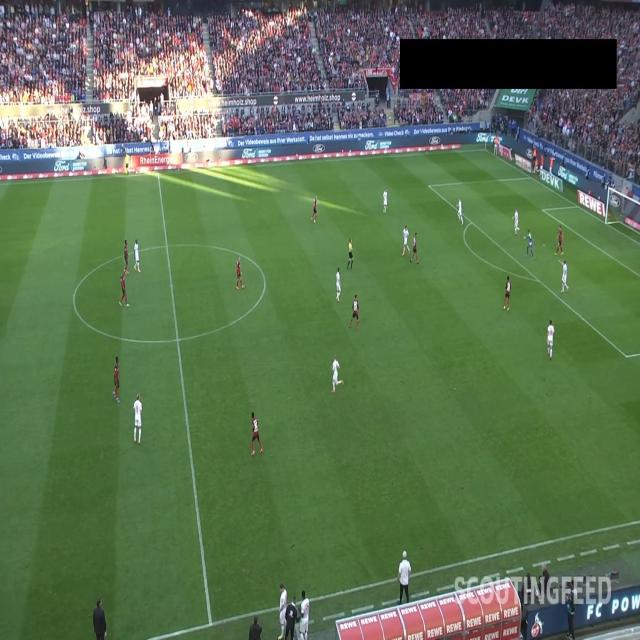ball: (530, 242, 532, 246)
